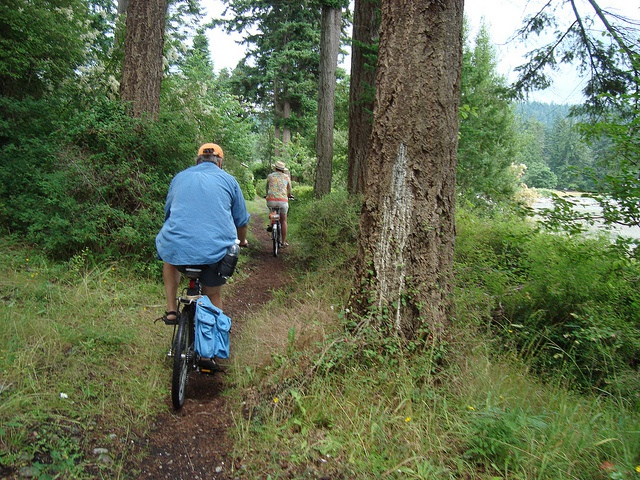non-vehicle: (167, 268, 214, 412), (270, 206, 280, 256)
